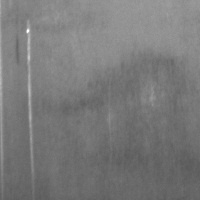scratches: (21, 16, 37, 176)
